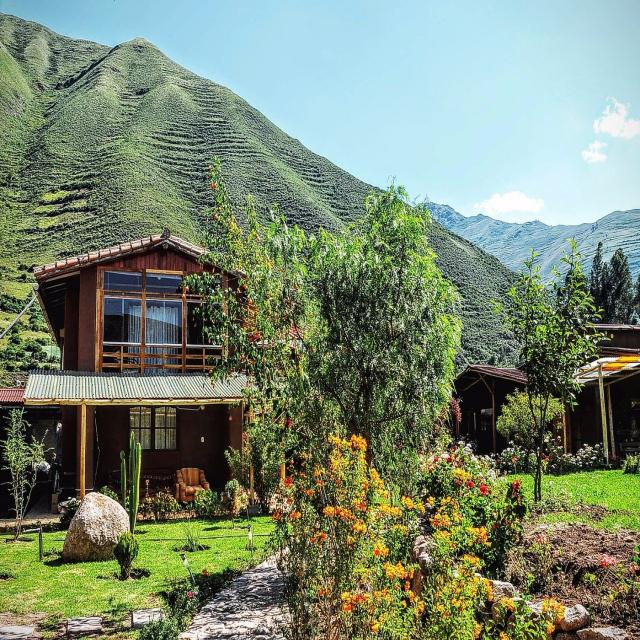Fachada: (25, 234, 245, 490)
